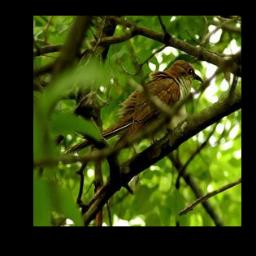Cuckoo: (63, 58, 204, 157)
